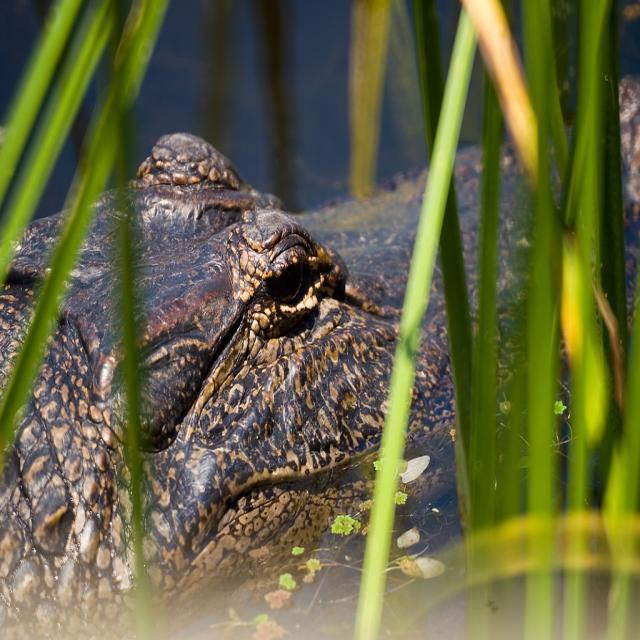crocodile: (0, 30, 639, 639)
